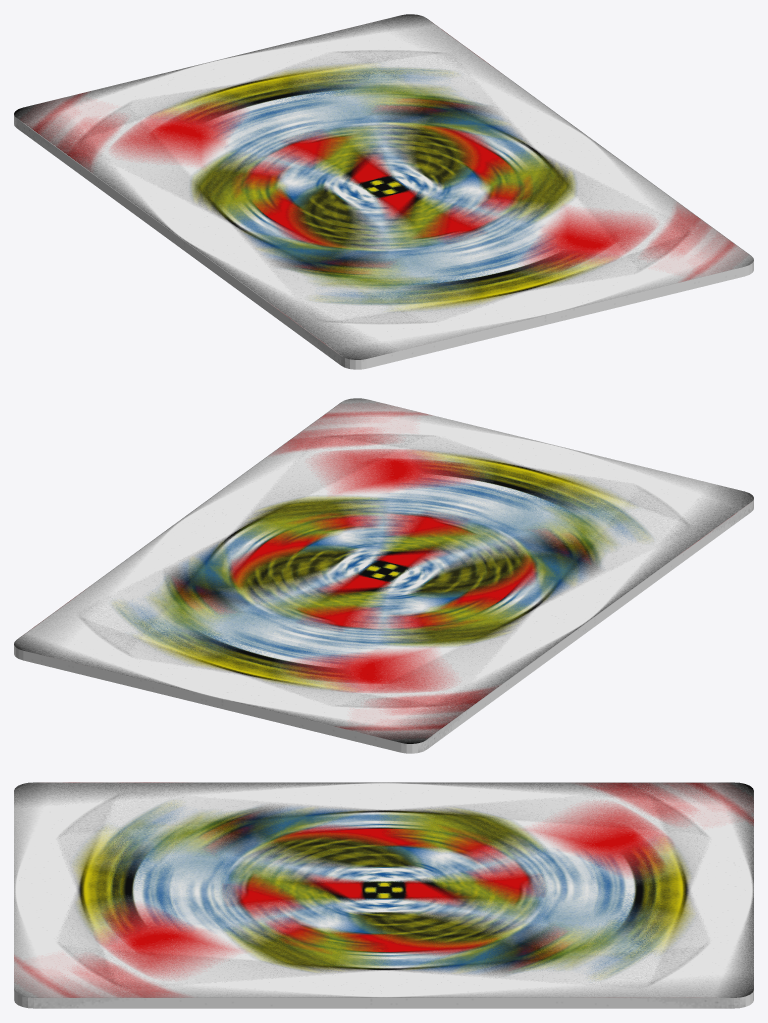
File: Card_Spinning.fbx
3 views of the same model, one above another, from view 1: azimuth 30°, elevation 25°; view 2: azimuth 150°, elevation 25°; view 3: azimuth 270°, elevation 25° (orthographic). The views are drawn at different scales.
Visible parts, largest first — view 1: Card; view 2: Card; view 3: Card.
Part boxes in pixels (x1,y1,x2,y2): Card: (14, 14, 753, 369); Card: (14, 398, 753, 753); Card: (14, 782, 753, 1008).
Size of the model in its own units: 345 by 7.85 by 500.
Materials: 1 (1 with a texture image).
